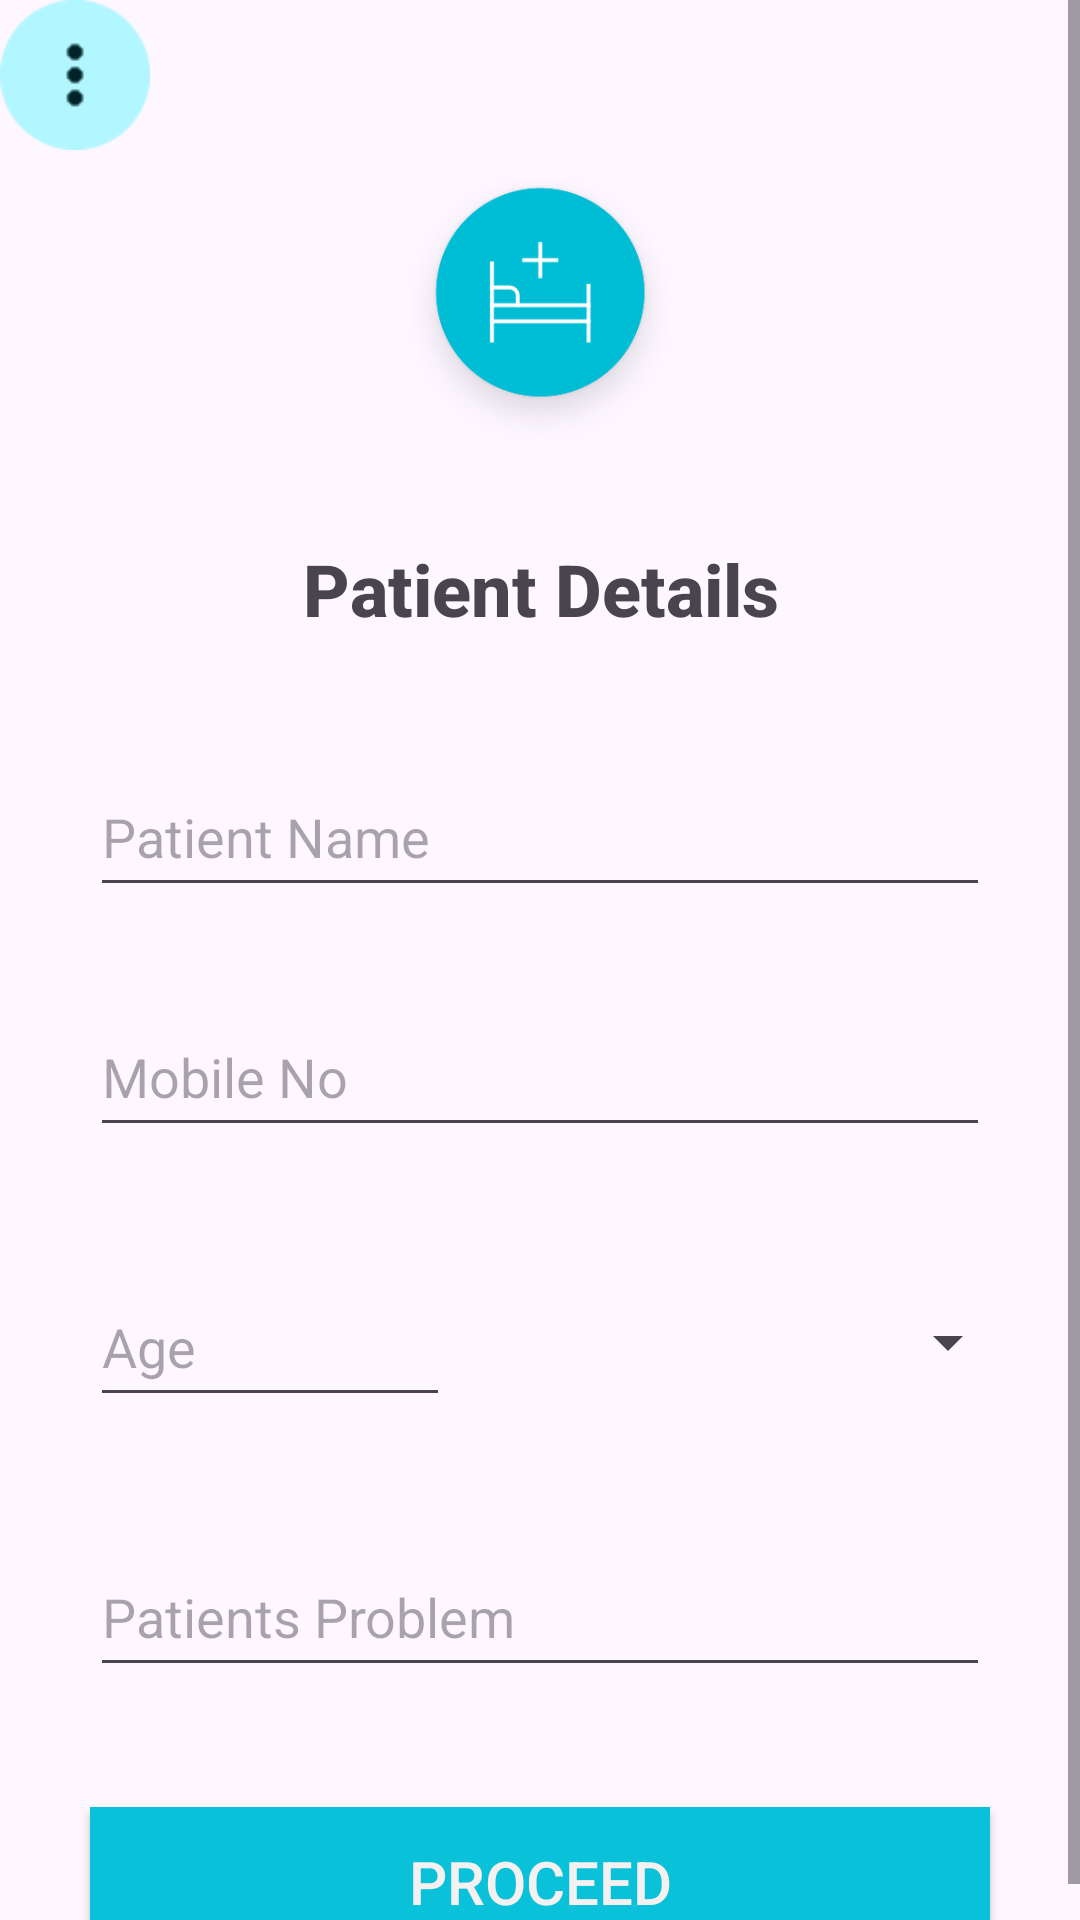

Locate icon controls on the screen. Image size 1080px x 1920px, boxes as (x1, y1, x2, y2).
bed: (435, 187, 645, 402)
threedot: (0, 0, 150, 150)
